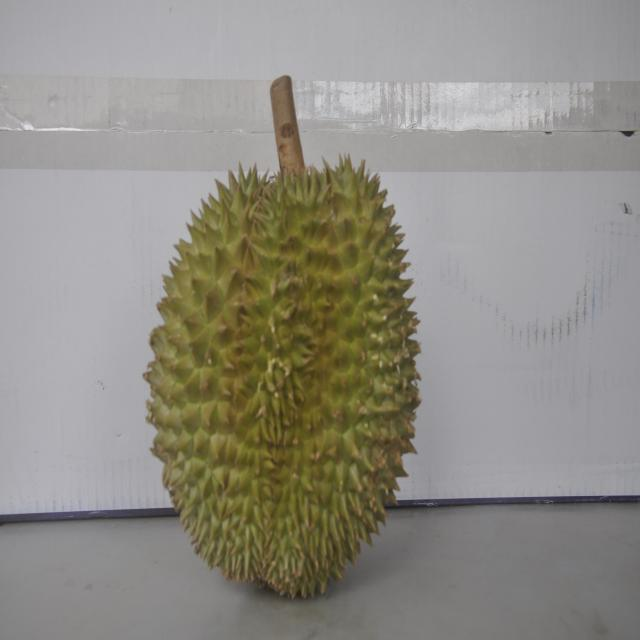mature: (143, 141, 415, 598)
